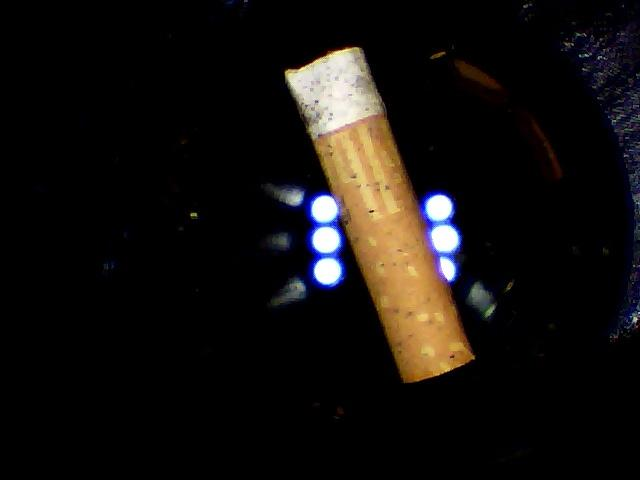megot: (273, 42, 489, 395)
